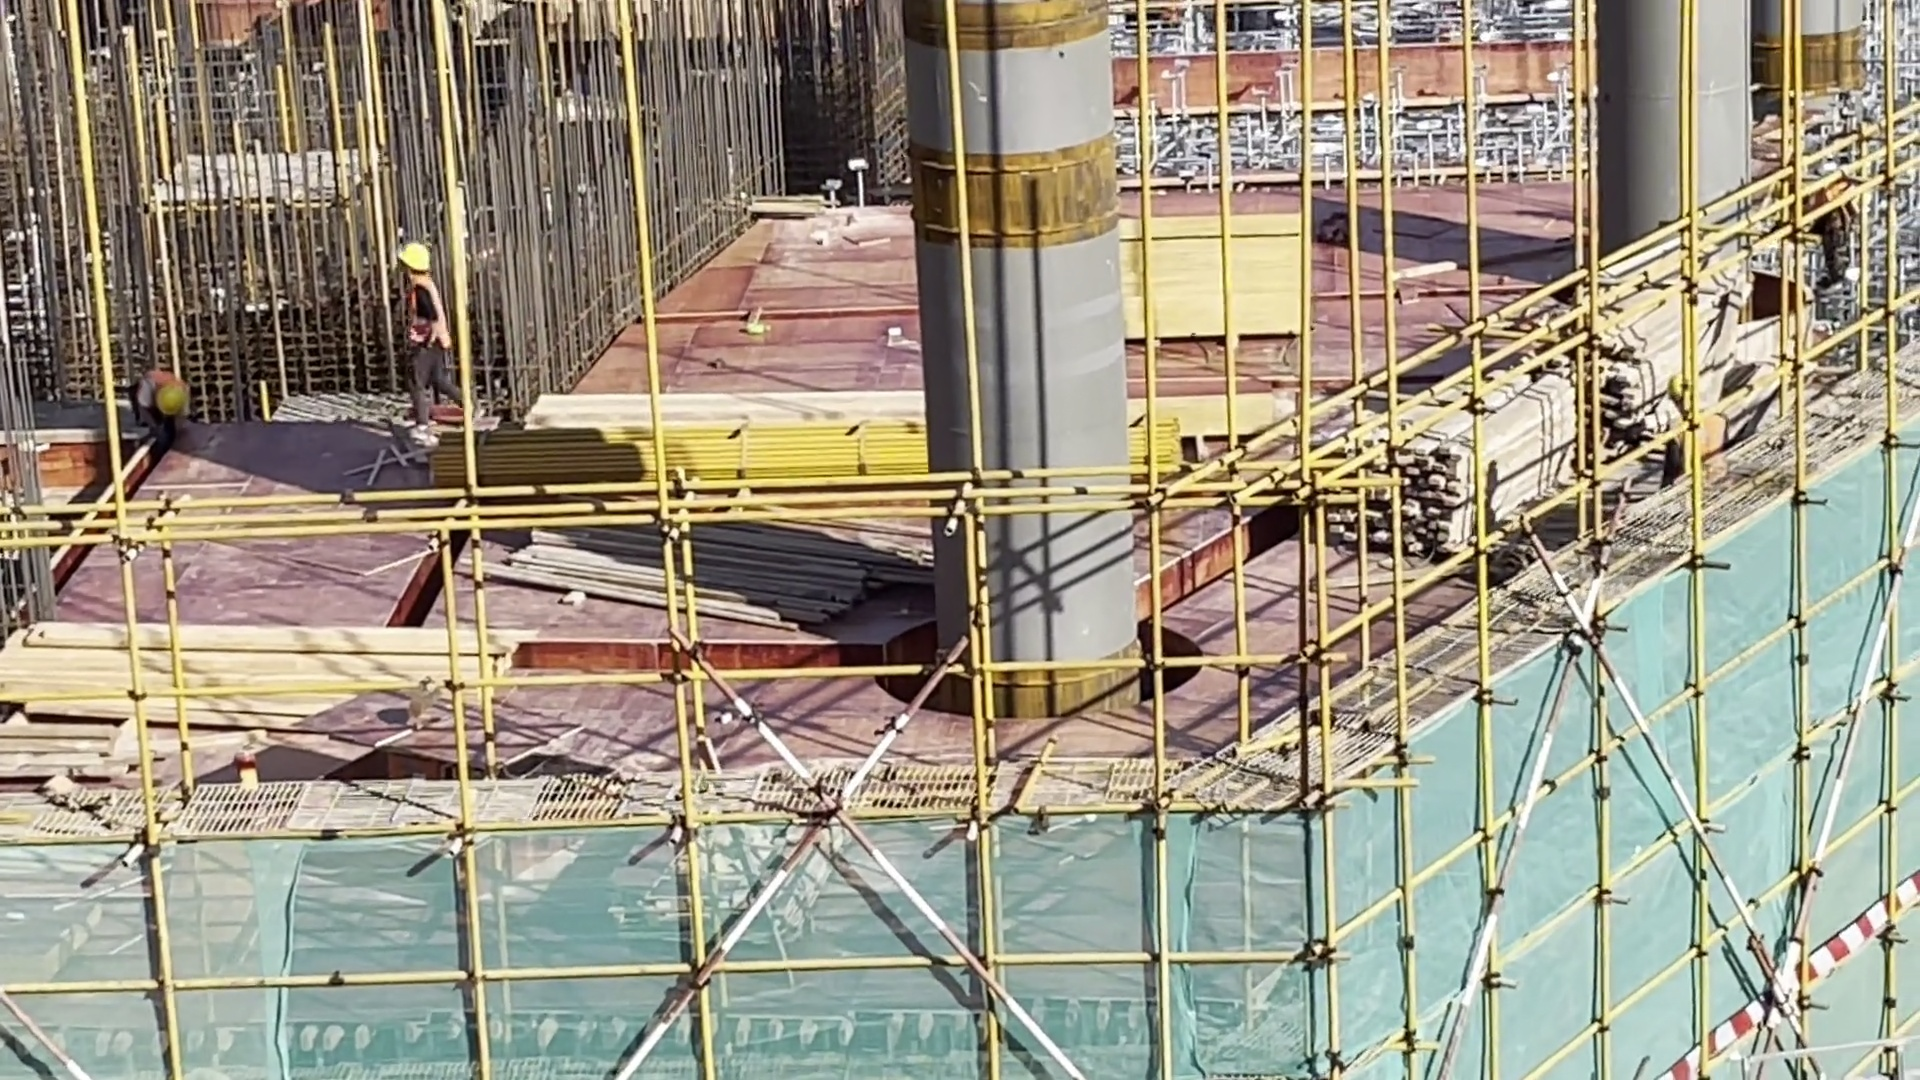helmet: (397, 243, 438, 291), (159, 377, 194, 416)
person: (401, 227, 479, 424), (1663, 364, 1734, 501), (125, 359, 200, 436)
vest: (402, 277, 450, 356), (1665, 415, 1741, 457), (139, 366, 189, 394)
